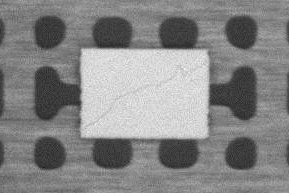DIE_CRACK: (83, 63, 204, 128)
